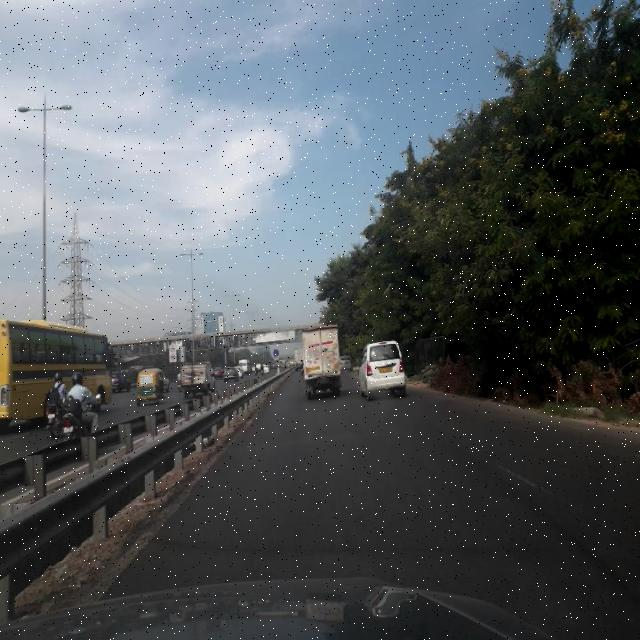D44: (493, 457, 562, 496)
